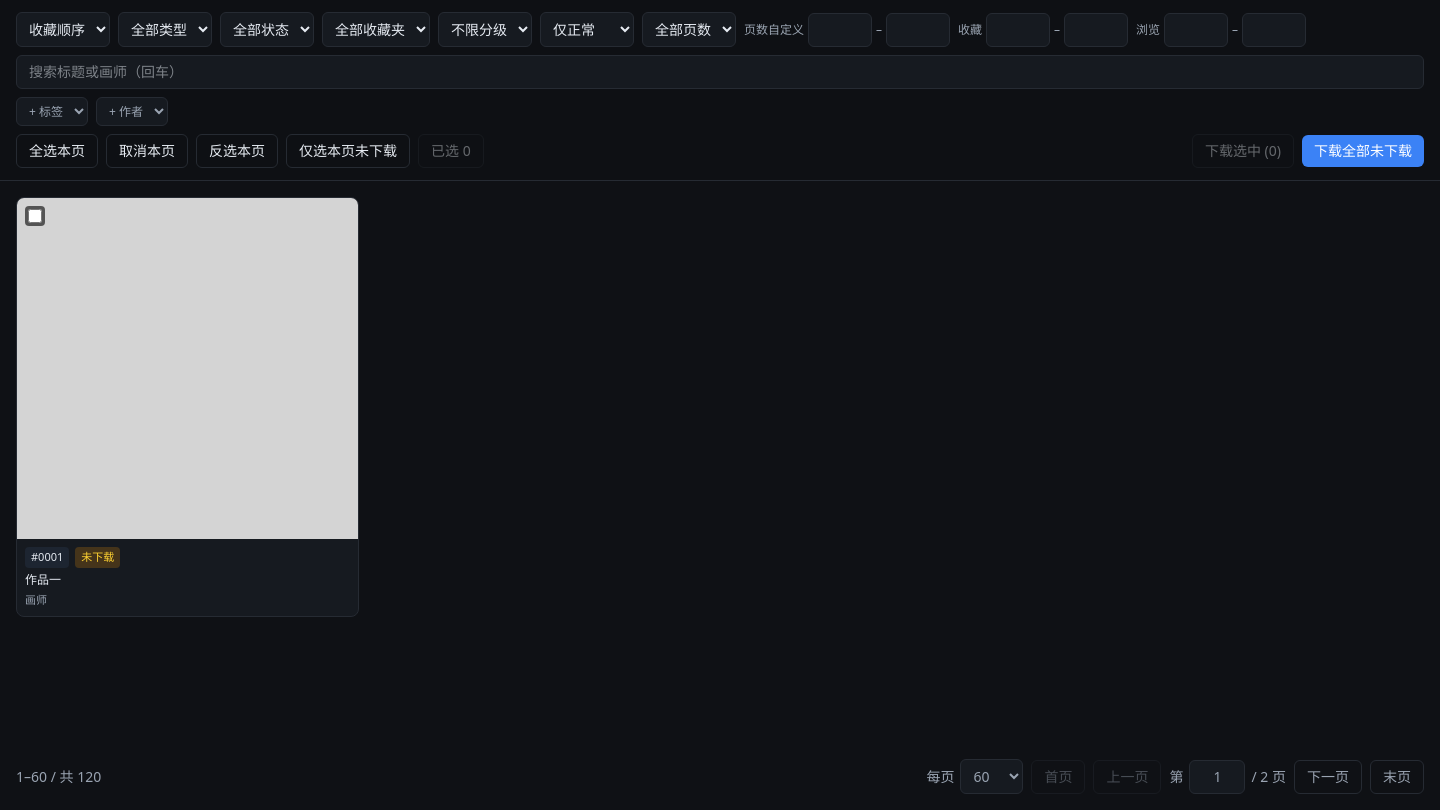
Test: Gallery › keeps the selection when navigating to another page
The width and height of the screenshot is (1440, 810).
Expected: the text "作品一" is shown, [25,570,61,588]
Click the button "全选本页": (57, 151) [16,134,98,168]
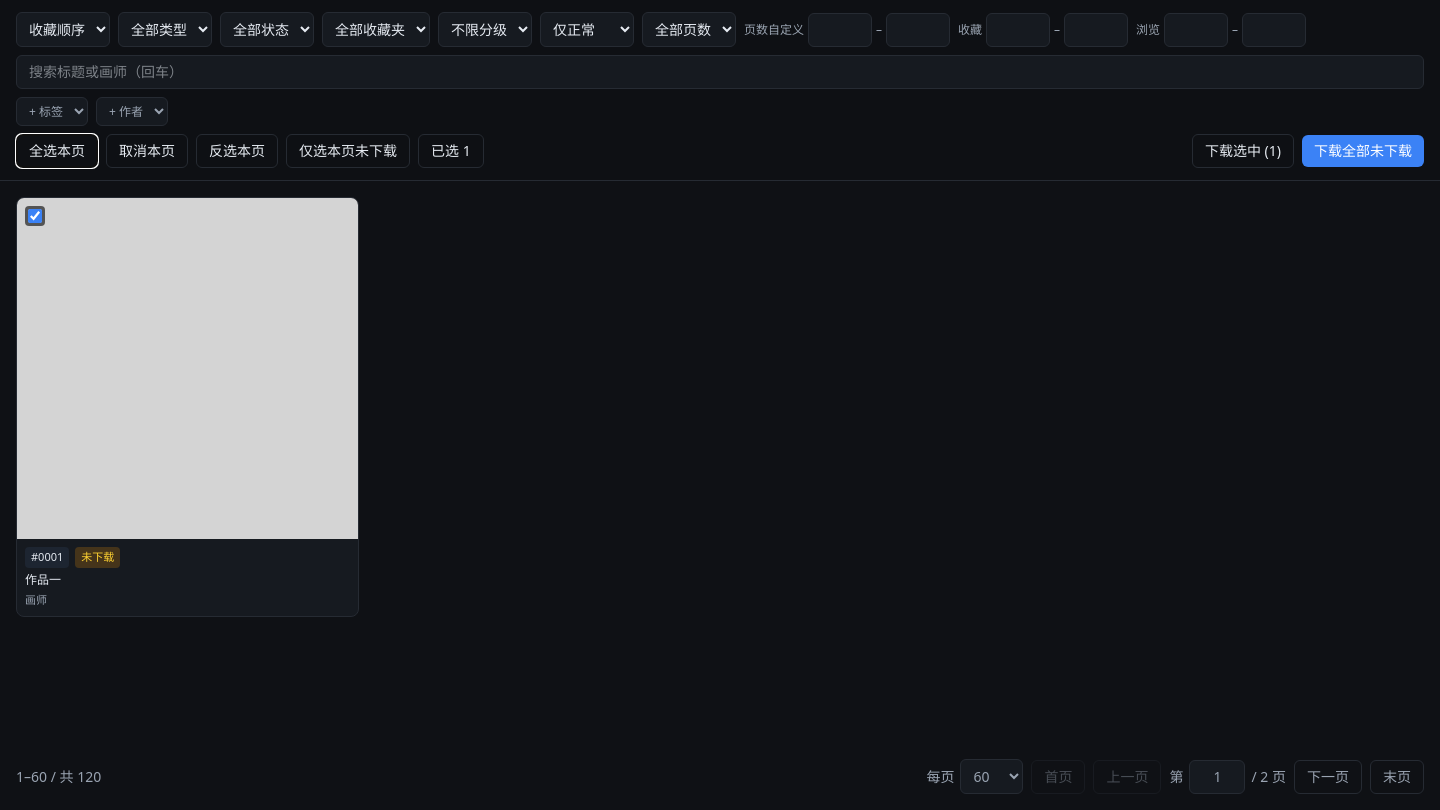
Expected: the button "下载选中 (1)" is shown, [1192,134,1294,168]
Click the button "下一页": (1328, 776) [1294,760,1362,794]
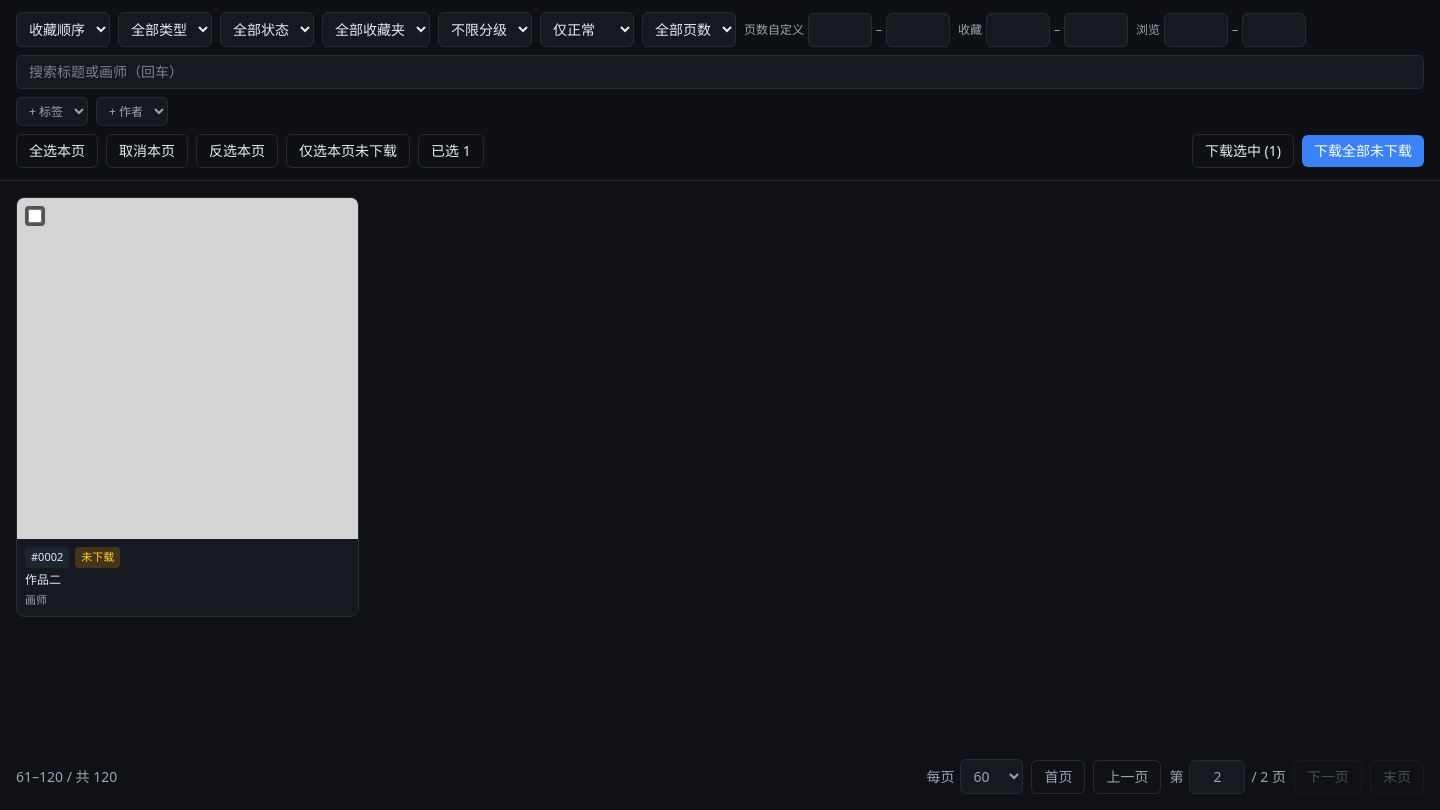
Expected: the button "下载选中 (1)" is shown, [1192,134,1294,168]
Expected: the text "作品二" is shown, [25,570,61,588]
